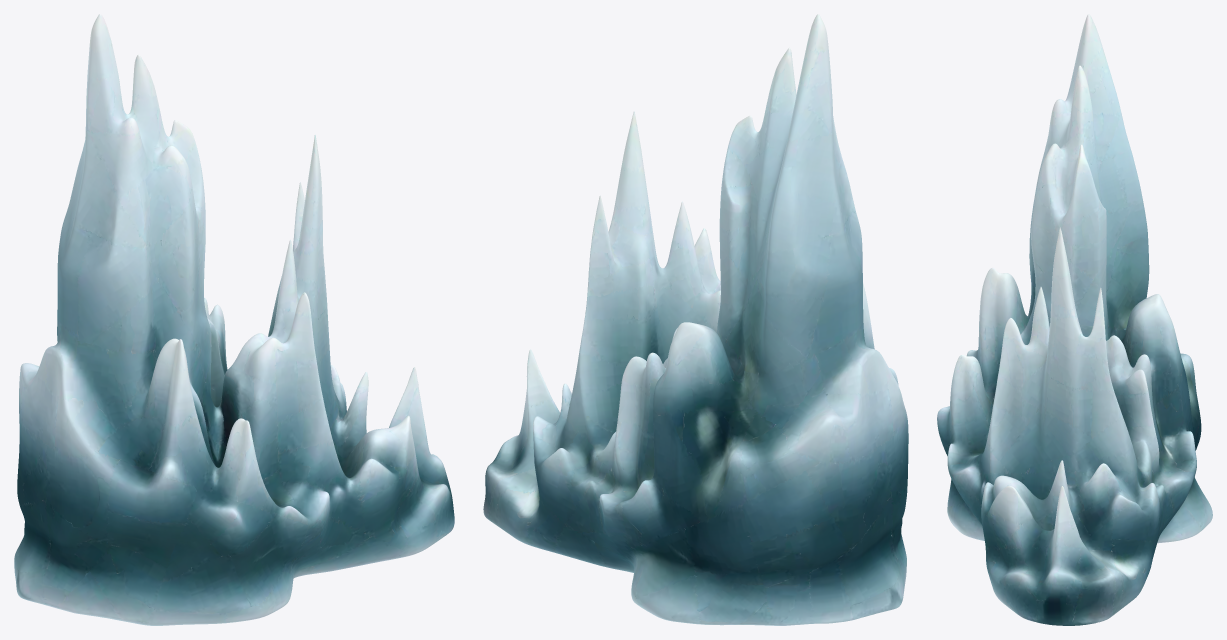
The model's file is stalactite.glb.
3 renders of one model, left to right at view 1: azimuth 30°, elevation 25°; view 2: azimuth 150°, elevation 25°; view 3: azimuth 270°, elevation 25°, orthographic. The views are drawn at different scales.
Parts seen in each view (by area): view 1: Mesh_0.004; view 2: Mesh_0.004; view 3: Mesh_0.004.
Boxes of the visible parts, box(x1,y1,x2,y2) form: Mesh_0.004: box(14, 14, 454, 625); Mesh_0.004: box(483, 14, 908, 625); Mesh_0.004: box(937, 14, 1212, 625).
Size of the model in its own units: 1.45 by 1.9 by 0.9971.
1 material, 1 textured.
